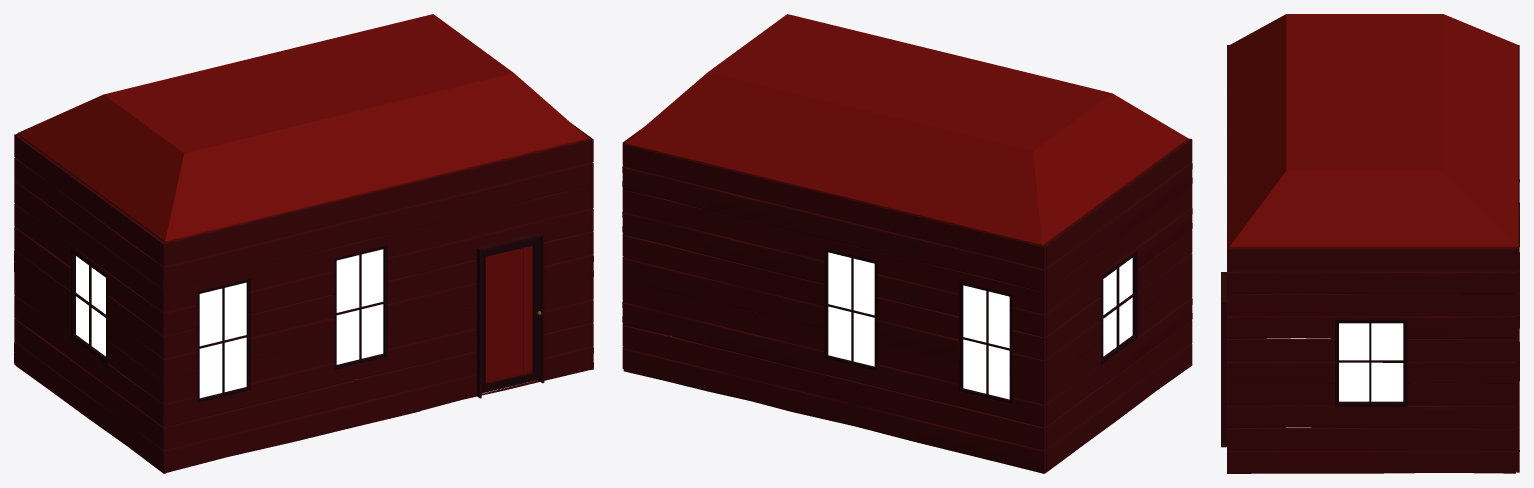
File: d2h_house5.fbx
3 views of the same model, side by side, from view 1: azimuth 30°, elevation 25°; view 2: azimuth 150°, elevation 25°; view 3: azimuth 270°, elevation 25° (orthographic). The views are drawn at different scales.
Parts seen in each view (by area): view 1: roof, front_wall_r.001, walla.001, front_wall_mid, door_unit, walla; view 2: roof, front_wall_r.004, front_wall_mid.001, walla.001; view 3: roof, walla, front_wall_mid.001, door_unit, front_wall_r.001.
Boxes of the visible parts, x1,y1,x2,y2 form: roof: (17, 14, 588, 242); front_wall_r.001: (162, 181, 420, 472); walla.001: (15, 135, 166, 473); front_wall_mid: (419, 139, 590, 410); door_unit: (476, 232, 544, 398); walla: (572, 124, 593, 369); roof: (625, 14, 1188, 246); front_wall_r.004: (791, 185, 1045, 473); front_wall_mid.001: (623, 144, 792, 411); walla.001: (1044, 138, 1192, 472); roof: (1229, 14, 1518, 248); walla: (1227, 248, 1515, 473); front_wall_mid.001: (1516, 167, 1519, 472); door_unit: (1221, 272, 1226, 447); front_wall_r.001: (1227, 45, 1229, 243).
Bounding box in the file's own units: 615 × 390 × 378.
